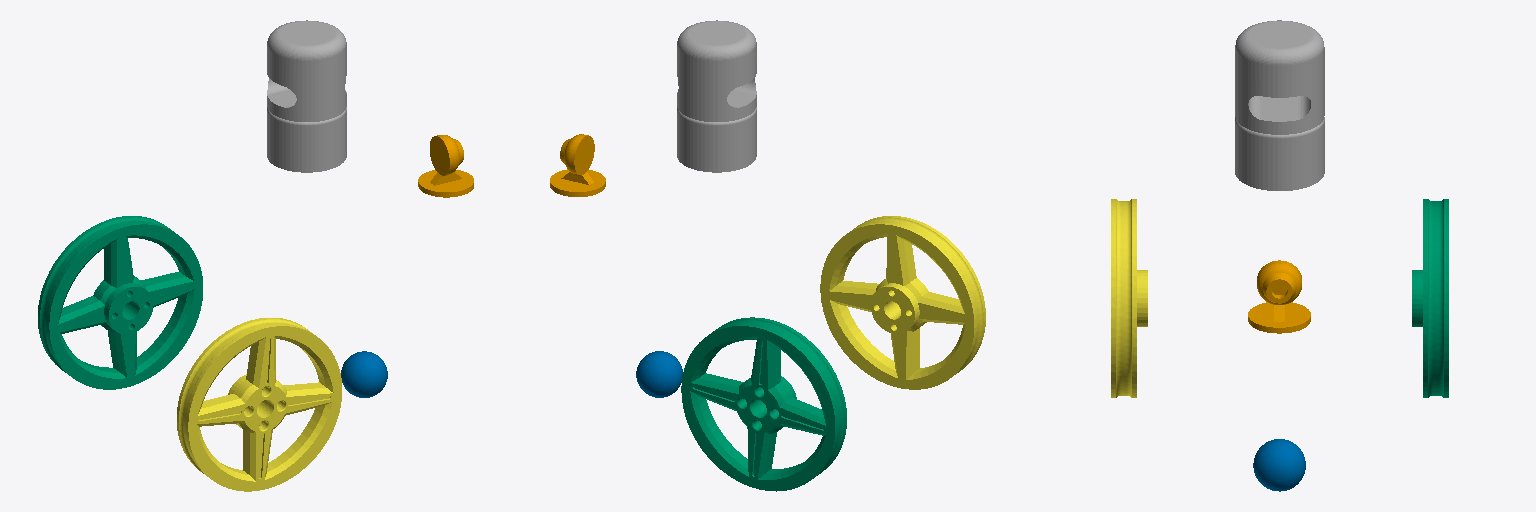
URDF robot description (learnbotics_l):
<?xml version="1.0"?>

<robot name="learnbotics_l" xmlns:xacro="http://ros.org/wiki/xacro">
  <link name="base_link">
  </link>


  <!-- ### BODY AND JOINT ###-->
  <link name="Body">
    <visual>
      <origin rpy="0 0 0" xyz="0 0 0"/>
      <geometry>
        <mesh filename="package://learnbotics_l/meshes/Capa.stl"/>
      </geometry>
    </visual>

    <collision>
      <origin rpy="0 0 0" xyz="0 0 0"/>
      <geometry>
        <mesh filename="package://learnbotics_l/meshes/Capa.stl"/>
      </geometry>
    </collision>

    <inertial>
      <origin rpy="0 0 0" xyz="0 0 0"/>
      <mass value="0.327"/>
      <inertia ixx="0.00063300" ixy="0.00005131" ixz="0.00000034" iyy="0.00120200" iyz="0" izz="0.00102900"/>
    </inertial>
  </link>

  <joint name="base_to_Body" type="fixed">
    <parent link="base_link"/>
    <child link="Body"/>
    <origin rpy="1.571 0 0" xyz="0 0 0" />
  </joint>


  <!-- ### LEFT WHEEL AND JOINT ### -->
  <link name="Left_Wheel">
    <visual>
      <origin rpy="1.571 0 0" xyz="0 0 0"/>
      <geometry>
        <mesh filename="package://learnbotics_l/meshes/Wheel.stl"/>
      </geometry>
    </visual>

    <collision>
      <origin rpy="1.571 0 0" xyz="0 0 0"/>
      <geometry>
        <mesh filename="package://learnbotics_l/meshes/Wheel.stl"/>
      </geometry>
    </collision>

    <inertial>
      <origin rpy="1.571 0 0" xyz="0 0 0"/>
      <mass value="0.027"/>
      <inertia ixx="0.00001095" ixy="0" ixz="0" iyy="0.00001095" iyz="0" izz="0.00002138"/>
    </inertial>
  </link>

  <joint name="Body_to_Left_Wheel" type="continuous">
    <parent link="Body"/>
    <child link="Left_Wheel"/>
    <origin rpy="1.571 0 0" xyz="-0.057649 -0.034678 -0.059005" />
    <axis xyz="0 -1 0" />
  </joint>


  <!-- ### RIGHT WHEEL AND JOINT ### -->
  <link name="Right_Wheel">
    <visual>
      <origin rpy="-1.571 0 0" xyz="0 0 0"/>
      <geometry>
        <mesh filename="package://learnbotics_l/meshes/Wheel.stl"/>
      </geometry>
    </visual>

    <collision>
      <origin rpy="-1.571 0 0" xyz="0 0 0"/>
      <geometry>
        <mesh filename="package://learnbotics_l/meshes/Wheel.stl"/>
      </geometry>
    </collision>

    <inertial>
      <origin rpy="-1.571 0 0" xyz="0 0 0"/>
      <mass value="0.027"/>
      <inertia ixx="0.00001095" ixy="0" ixz="0" iyy="0.00001095" iyz="0" izz="0.00002138"/>
    </inertial>
  </link>

  <joint name="Body_to_Right_Wheel" type="continuous">
    <parent link="Body"/>
    <child link="Right_Wheel"/>
    <origin rpy="1.571 0 0" xyz="-0.057649 -0.034678 0.059005" />
    <axis xyz="0 -1 0" />
  </joint>


  <!-- ### 3 SPHERES AND JOINTS ### -->
  <link name="Sphere">
    <visual>
      <origin rpy="0 0 0" xyz="0 0 0"/>
      <geometry>
        <mesh filename="package://learnbotics_l/meshes/Sphere.stl"/>
      </geometry>
    </visual>

    <collision>
      <origin rpy="0 0 0" xyz="0 0 0"/>
      <geometry>
        <mesh filename="package://learnbotics_l/meshes/Sphere.stl"/>
      </geometry>
    </collision>

    <inertial>
      <origin rpy="0 0 0" xyz="0 0 0"/>
      <mass value="0.01"/>
      <inertia ixx="0.00000042" ixy="0" ixz="0" iyy="0.00000042" iyz="0" izz="0.00000042"/>
    </inertial>
  </link>

  <joint name="Body_to_Sphere" type="continuous">
    <parent link="Body"/>
    <child link="Sphere"/>
    <origin rpy="0 0 0" xyz="0.028278 -0.064603 0.000136" />
    <axis xyz="0 0 -1" />
  </joint>

  <link name="Sphere_2">
    <visual>
      <origin rpy="0 0 0" xyz="0 0 0"/>
      <geometry>
        <mesh filename="package://learnbotics_l/meshes/Sphere.stl"/>
      </geometry>
    </visual>

    <collision>
      <origin rpy="0 0 0" xyz="0 0 0"/>
      <geometry>
        <mesh filename="package://learnbotics_l/meshes/Sphere.stl"/>
      </geometry>
    </collision>

    <inertial>
      <origin rpy="0 0 0" xyz="0 0 0"/>
      <mass value="0.01"/>
      <inertia ixx="0.00000042" ixy="0" ixz="0" iyy="0.00000042" iyz="0" izz="0.00000042"/>
    </inertial>
  </link>

  <joint name="Sphere_to_Sphere_2" type="continuous">
    <parent link="Sphere"/>
    <child link="Sphere_2"/>
    <origin rpy="0 0 0" xyz="0 0 0" />
    <axis xyz="0 -1 0" />
  </joint>

  <link name="Sphere_3">
    <visual>
      <origin rpy="0 0 0" xyz="0 0 0"/>
      <geometry>
        <mesh filename="package://learnbotics_l/meshes/Sphere.stl"/>
      </geometry>
    </visual>

    <collision>
      <origin rpy="0 0 0" xyz="0 0 0"/>
      <geometry>
        <mesh filename="package://learnbotics_l/meshes/Sphere.stl"/>
      </geometry>
    </collision>

    <inertial>
      <origin rpy="0 0 0" xyz="0 0 0"/>
      <mass value="0.01"/>
      <inertia ixx="0.00000042" ixy="0" ixz="0" iyy="0.00000042" iyz="0" izz="0.00000042"/>
    </inertial>
  </link>

  <joint name="Sphere_2_to_Sphere_3" type="continuous">
    <parent link="Sphere_2"/>
    <child link="Sphere_3"/>
    <origin rpy="0 0 0" xyz="0 0 0" />
    <axis xyz="-1 0 0" />
  </joint>

    
  <!-- ### LIDAR AND JOINT ### -->
  <link name="Lidar">
    <visual>
      <origin rpy="0 0 0" xyz="0 0 0"/>
      <geometry>
        <mesh filename="package://learnbotics_l/meshes/Lidar.stl"/>
      </geometry>
    </visual>

    <collision>
      <origin rpy="0 0 0" xyz="0 0 0"/>
      <geometry>
        <mesh filename="package://learnbotics_l/meshes/Lidar.stl"/>
      </geometry>
    </collision>

    <inertial>
      <origin rpy="0 0 0" xyz="0 0 0"/>
      <mass value="0.031"/>
      <inertia ixx="1.184e-5" ixy="-4.274e-11" ixz="-2.070e-12" iyy="1.206e-5" iyz="0" izz="4.594e-6"/>
    </inertial>
  </link>

  <joint name="Body_to_Lidar" type="fixed">
    <parent link="Body"/>
    <child link="Lidar"/>
    <origin rpy="-1.571 1.571 0" xyz="0 0.07911977 0"/>
  </joint>

  <!-- # ray sensor (LIDAR PLUGIN) # -->
  <gazebo reference="Lidar">
    <sensor type="ray" name="head_hokuyo_sensor">
      <pose>0 0 0 0 0 0</pose>
      <visualize>false</visualize>
      <update_rate>20</update_rate>
      <ray>
        <scan>
          <horizontal>
            <samples>720</samples>
            <resolution>1</resolution>
            <min_angle>3.1415</min_angle>
            <max_angle>6.2831</max_angle>
          </horizontal>
          <vertical>
            <samples>720</samples>
            <resolution>1</resolution>
            <min_angle>3.1415</min_angle>
            <max_angle>6.2831</max_angle>
          </vertical>
        </scan>
        <range>
          <min>0.10</min>
          <max>10.0</max>
          <resolution>0.01</resolution>
        </range>
        <noise>
          <type>gaussian</type>
          <mean>0.0</mean>
          <stddev>0.01</stddev>
        </noise>
      </ray>
      <plugin name="gazebo_ros_laser_controller" filename="libgazebo_ros_velodyne_laser.so">
        <topicName>/learnbotics_l/laser/scan</topicName>
        <frameName>Lidar</frameName>
        <min_range>0.19</min_range>
        <max_range>130</max_range>
      </plugin>
    </sensor>
  </gazebo>


  <!-- ### CAMERA, JOINT AND PLUGIN ### -->
  <link name="Camera">
    <visual>
      <origin rpy="0 0 0" xyz="0 0 0"/>
      <geometry>
        <mesh filename="package://learnbotics_l/meshes/Camera.stl"/>
      </geometry>
    </visual>

    <collision>
      <origin rpy="0 0 0" xyz="0 0 0"/>
      <geometry>
        <mesh filename="package://learnbotics_l/meshes/Camera.stl"/>
      </geometry>
    </collision>

    <inertial>
      <origin rpy="0 0 0" xyz="0 0 0"/>
      <mass value="0.002"/>
      <inertia ixx="1.397e-7" ixy="0" ixz="-2.070e-12" iyy="1.512e-7" iyz="1.844e-9" izz="7.943e-8"/>
    </inertial>
  </link>

  <joint name="Body_to_Camera" type="fixed">
    <parent link="Body"/>
    <child link="Camera"/>
    <origin rpy="-1.571 0 0" xyz="0.07456502 0.02996464 0.00016464"/>
  </joint>

  <gazebo reference="Camera">
    <sensor type="camera" name="camera_top">
      <update_rate>30.0</update_rate>
      <camera name="head">
        <horizontal_fov>1.3962634</horizontal_fov>
        <image>
          <width>1366</width>
          <height>768</height>
          <format>R8G8B8</format>
        </image>
        <clip>
          <near>0.02</near>
          <far>300</far>
        </clip>
      </camera>
      <plugin name="camera_controller" filename="libgazebo_ros_camera.so">
        <alwaysOn>true</alwaysOn>
        <updateRate>0.0</updateRate>
        <cameraName>diff/camera_top</cameraName>
        <imageTopicName>image_raw</imageTopicName>
        <cameraInfoTopicName>camera_info</cameraInfoTopicName>
        <frameName>Camera</frameName>
        <hackBaseline>0.07</hackBaseline>
        <distortionK1>0.0</distortionK1>
        <distortionK2>0.0</distortionK2>
        <distortionK3>0.0</distortionK3>
        <distortionT1>0.0</distortionT1>
        <distortionT2>0.0</distortionT2>
      </plugin>
    </sensor>
  </gazebo>


  <!-- ### DIFERENTIAL DRIVE PLUGIN ### -->
  <gazebo>
    <plugin name="gazebo_ros_control" filename="libgazebo_ros_diff_drive.so">
      <robotNamespace>/</robotNamespace>
      <legacyModeNS>true</legacyModeNS>
      <alwaysOn>true</alwaysOn>
      <legacyMode>false</legacyMode>
      <updateRate>40</updateRate>
      <leftJoint>Body_to_Left_Wheel</leftJoint>
      <rightJoint>Body_to_Right_Wheel</rightJoint>
      <wheelSeparation>0.10966201</wheelSeparation>
      <wheelDiameter>0.075</wheelDiameter>
      <torque>20</torque>
      <commandTopic>cmd_vel</commandTopic>
      <odometryTopic>odom</odometryTopic>
      <odometryFrame>odom</odometryFrame>
      <publishWheelTF>true</publishWheelTF>
      <publishOdomTF>true</publishOdomTF>
      <publishWheelJointState>true</publishWheelJointState>
      <robotBaseFrame>base_link</robotBaseFrame>
    </plugin>
  </gazebo>

</robot>

--- Facts derived from the render (not from the file) ---
Views: 3 orthographic renders of the robot side by side, from view 1: azimuth 30°, elevation 25°; view 2: azimuth 150°, elevation 25°; view 3: azimuth 270°, elevation 25°.
Model learnbotics_l with 9 links and 8 joints (5 continuous, 3 fixed), rooted at base_link, posed every joint at zero.
Links seen in each view (by area): view 1: Right_Wheel, Left_Wheel, Lidar, Camera, Sphere; view 2: Right_Wheel, Left_Wheel, Lidar, Camera, Sphere; view 3: Lidar, Left_Wheel, Right_Wheel, Camera, Sphere.
Link boxes in pixels (box(x1,y1,x2,y2)): Right_Wheel: box(177, 318, 341, 491); Left_Wheel: box(38, 216, 202, 389); Lidar: box(267, 20, 346, 172); Camera: box(418, 135, 473, 197); Sphere: box(341, 351, 387, 397); Right_Wheel: box(820, 216, 985, 389); Left_Wheel: box(681, 317, 846, 491); Lidar: box(677, 20, 756, 172); Camera: box(550, 134, 605, 196); Sphere: box(636, 351, 682, 397); Lidar: box(1235, 20, 1324, 190); Left_Wheel: box(1412, 199, 1448, 397); Right_Wheel: box(1111, 199, 1147, 397); Camera: box(1248, 260, 1310, 333); Sphere: box(1253, 439, 1305, 491).
Size in the robot's own frame: 0.1762 by 0.1287 by 0.1774 metres.
Meshes: 5 distinct files referenced, 7 mesh visuals loaded (4 ASCII STL); not drawn: 1 (reference not matched to a file when rendering).
